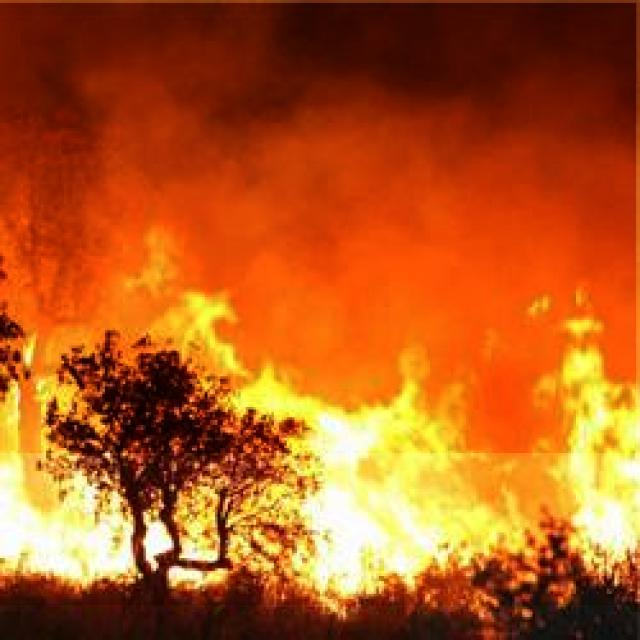Fire: (0, 263, 640, 605)
Smoke: (0, 3, 636, 453)
